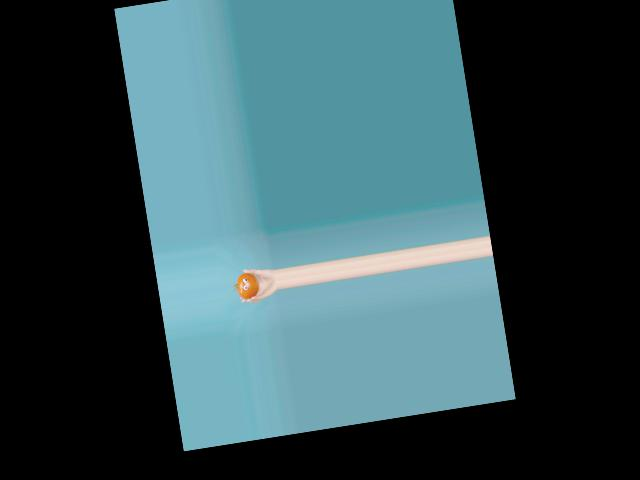tomato: (234, 270, 261, 300)
